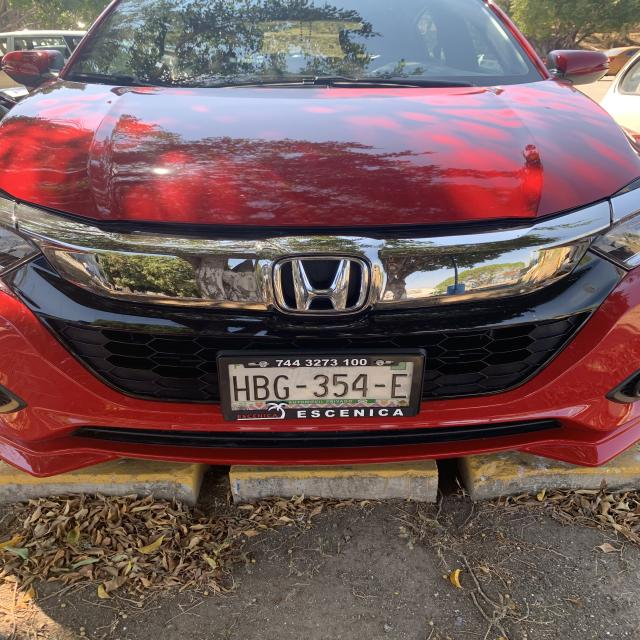placa: (223, 369, 414, 399)
